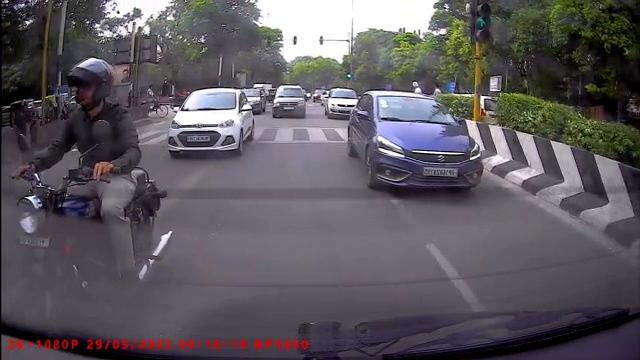motorcycle_with_helmet: (11, 56, 166, 328)
